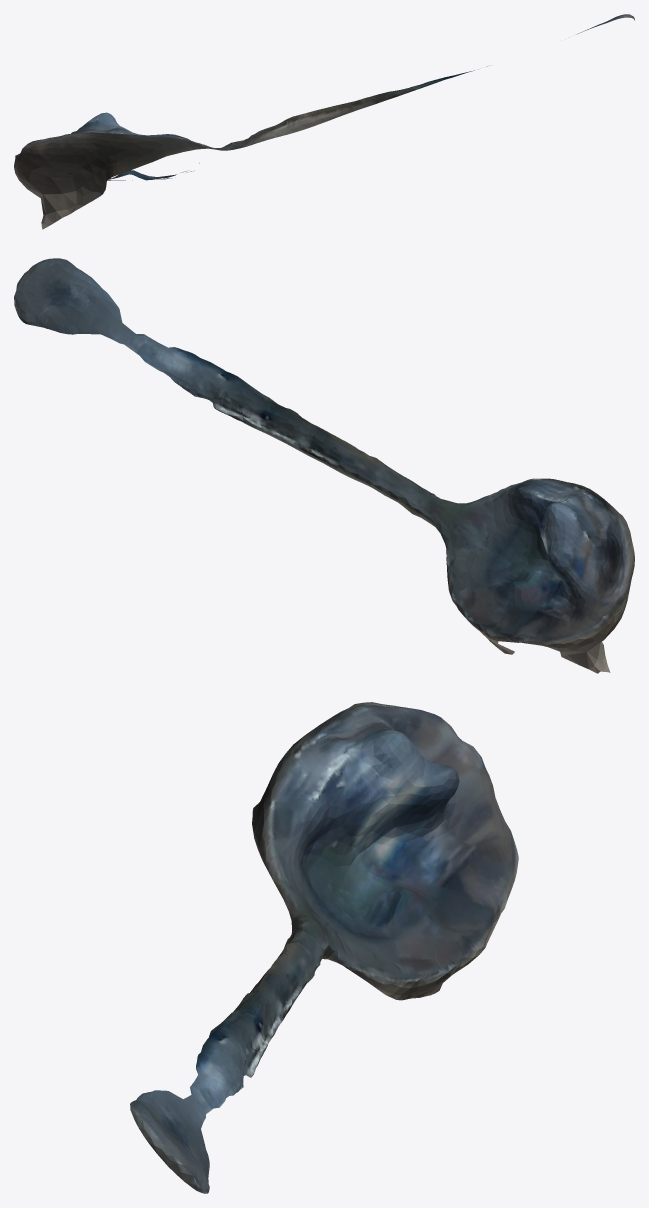
File: spoon.glb
3 views of the same model, one above another, from view 1: azimuth 30°, elevation 25°; view 2: azimuth 150°, elevation 25°; view 3: azimuth 270°, elevation 25° (orthographic). The views are drawn at different scales.
Bounding box in the file's own units: 0.1731 × 0.045 × 0.0535.
1 material, 1 textured.
